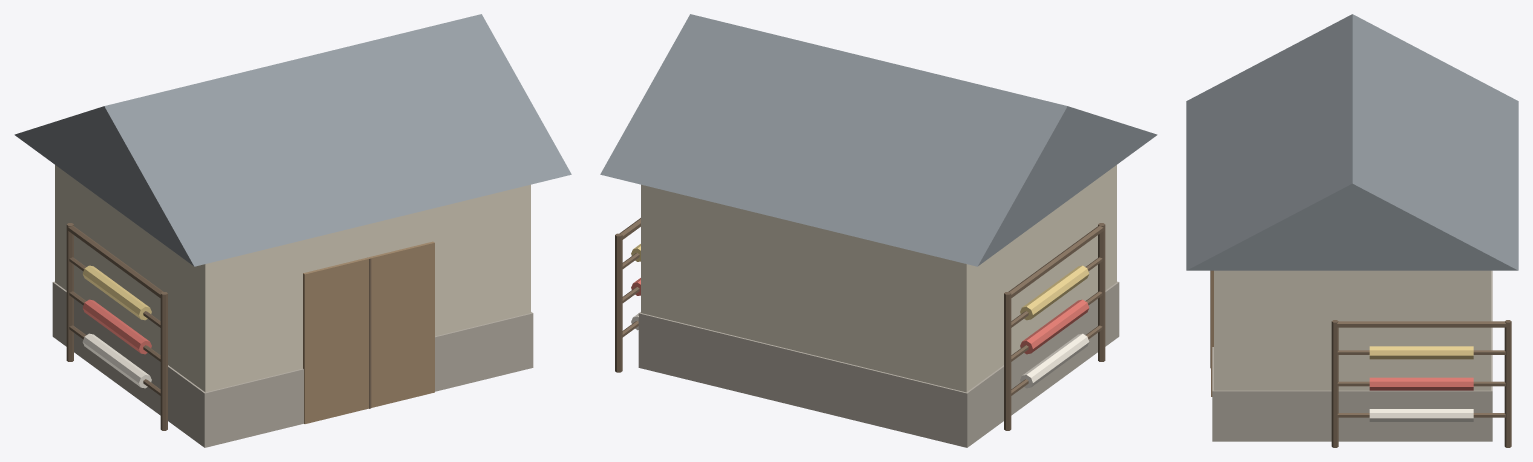
Rendered from Workshop_EastAsia.fbx.
3 views of the same model, side by side, from view 1: azimuth 30°, elevation 25°; view 2: azimuth 150°, elevation 25°; view 3: azimuth 270°, elevation 25° (orthographic). The views are drawn at different scales.
Parts seen in each view (by area): view 1: Workshop_EastAsia_Mesh; view 2: Workshop_EastAsia_Mesh; view 3: Workshop_EastAsia_Mesh.
Boxes of the visible parts, x1=… form: Workshop_EastAsia_Mesh: x1=14, y1=14, x2=571, y2=447; Workshop_EastAsia_Mesh: x1=600, y1=14, x2=1157, y2=447; Workshop_EastAsia_Mesh: x1=1186, y1=14, x2=1518, y2=447.
Size of the model in its own units: 5.8 by 4.29 by 4.8.
